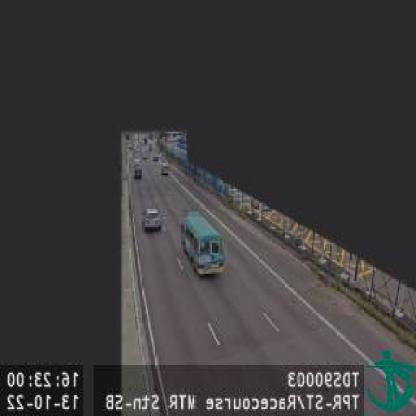Car: (142, 206, 161, 232), (134, 162, 144, 180), (159, 162, 169, 177)
Minibus: (181, 210, 226, 278)
